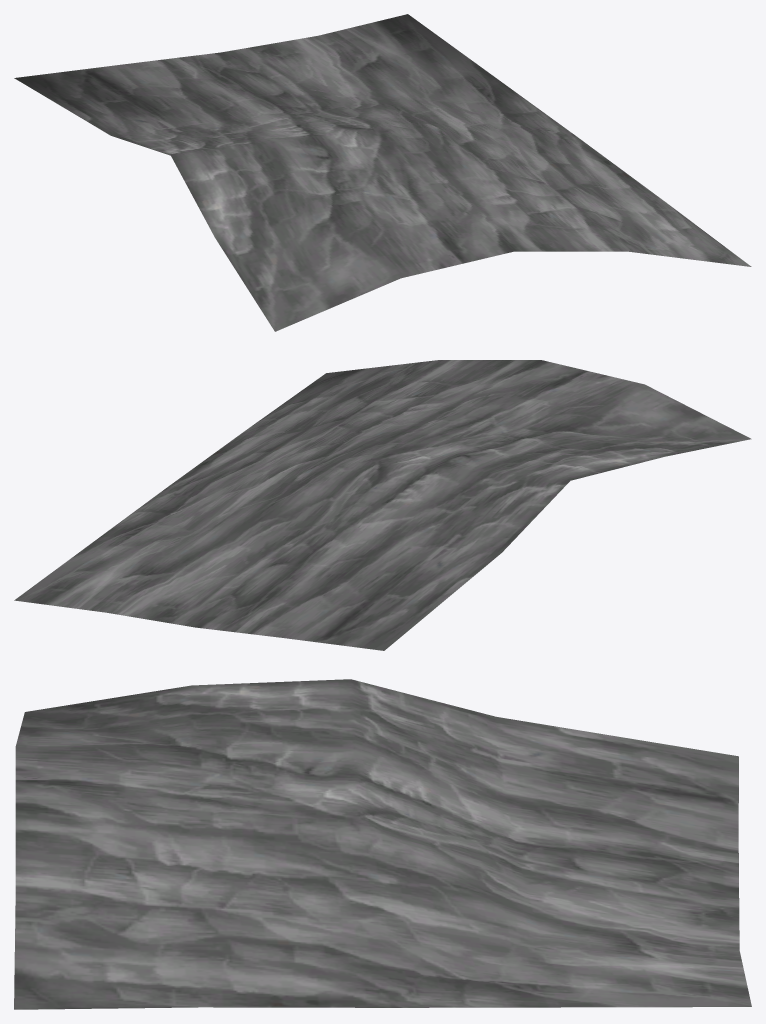
File: SWORDLIGHT20_PS-AREA01_01.fbx
3 renders of one model, top to bottom at view 1: azimuth 30°, elevation 25°; view 2: azimuth 150°, elevation 25°; view 3: azimuth 270°, elevation 25°, orthographic. The views are drawn at different scales.
Visible parts, largest first — view 1: SWORDLIGHT20_PS-AREA01_01; view 2: SWORDLIGHT20_PS-AREA01_01; view 3: SWORDLIGHT20_PS-AREA01_01.
Boxes of the visible parts, box(x1,y1,x2,y2) form: SWORDLIGHT20_PS-AREA01_01: box(14, 14, 751, 331); SWORDLIGHT20_PS-AREA01_01: box(14, 360, 751, 650); SWORDLIGHT20_PS-AREA01_01: box(14, 679, 751, 1009).
Size of the model in its own units: 55867 by 11333 by 70298.
1 material, 1 textured.
